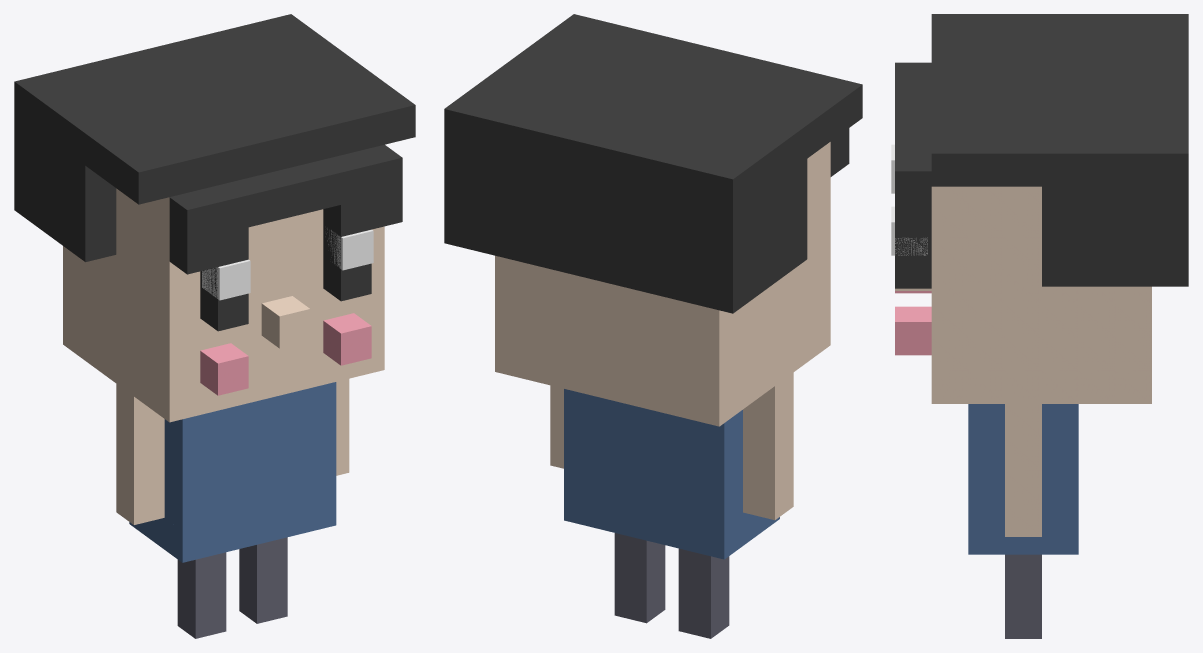
The model's file is player-su.fbx.
3 views of the same model, side by side, from view 1: azimuth 30°, elevation 25°; view 2: azimuth 150°, elevation 25°; view 3: azimuth 270°, elevation 25° (orthographic). The views are drawn at different scales.
Visible parts, largest first — view 1: Detailed_Cutie; view 2: Detailed_Cutie; view 3: Detailed_Cutie.
Part boxes in pixels (left/top/right/bottom): Detailed_Cutie: left=14, top=14, right=415, bottom=638; Detailed_Cutie: left=444, top=14, right=862, bottom=638; Detailed_Cutie: left=891, top=14, right=1188, bottom=638.
Bounding box in the file's own units: 1.35 × 1.22 × 2.4.
